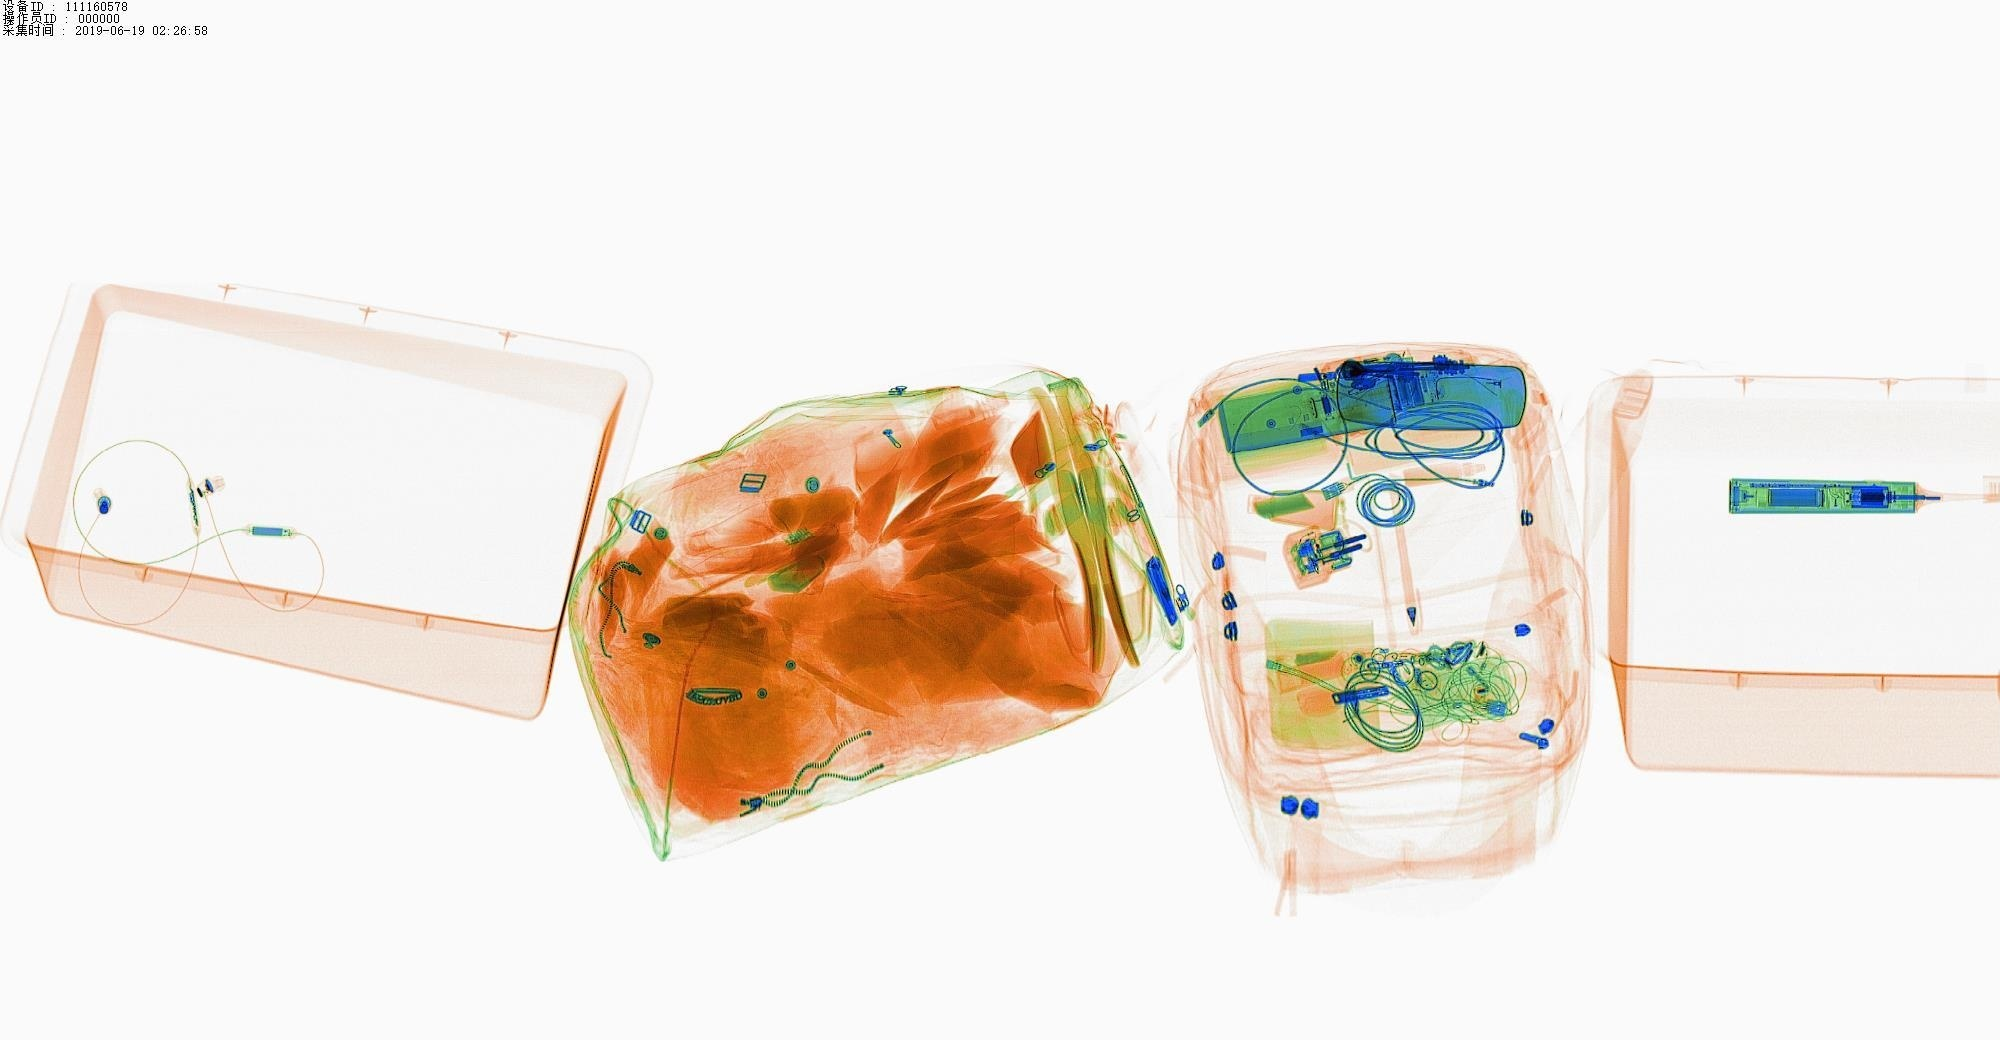NonmetallicFire: (1321, 339, 1437, 405)
